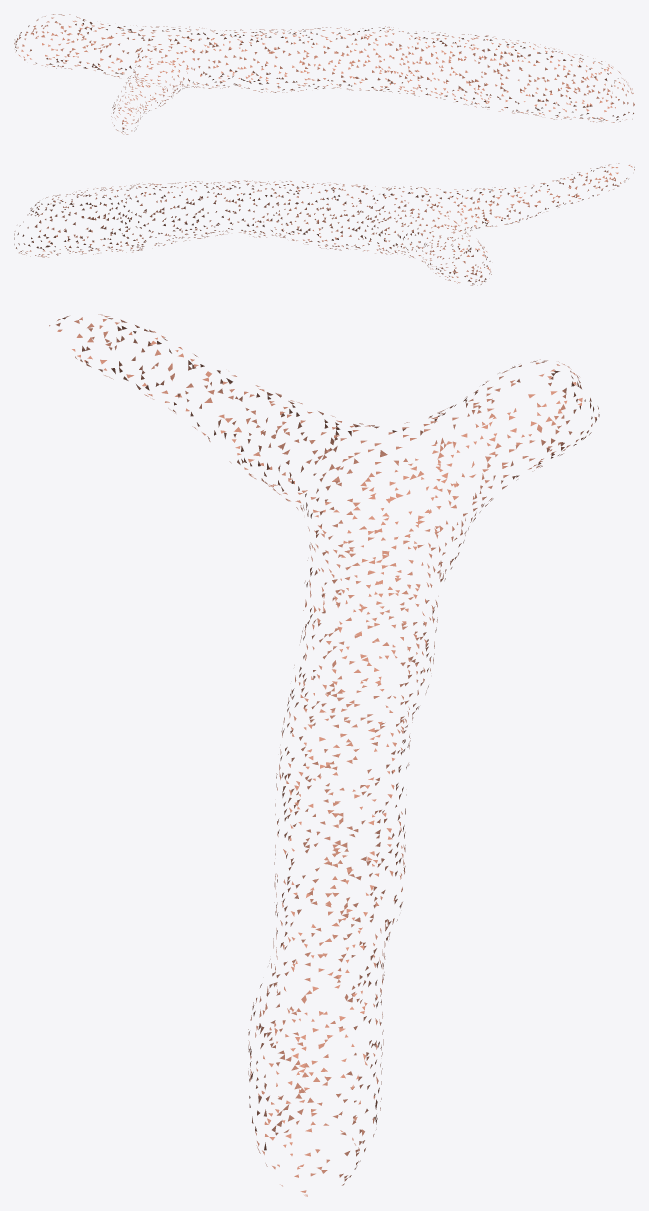
Rendered from morph_003.glb.
3 renders of one model, top to bottom at view 1: azimuth 30°, elevation 25°; view 2: azimuth 150°, elevation 25°; view 3: azimuth 270°, elevation 25°, orthographic. The views are drawn at different scales.
Bounding box in the file's own units: 135 × 42 × 58.6.
